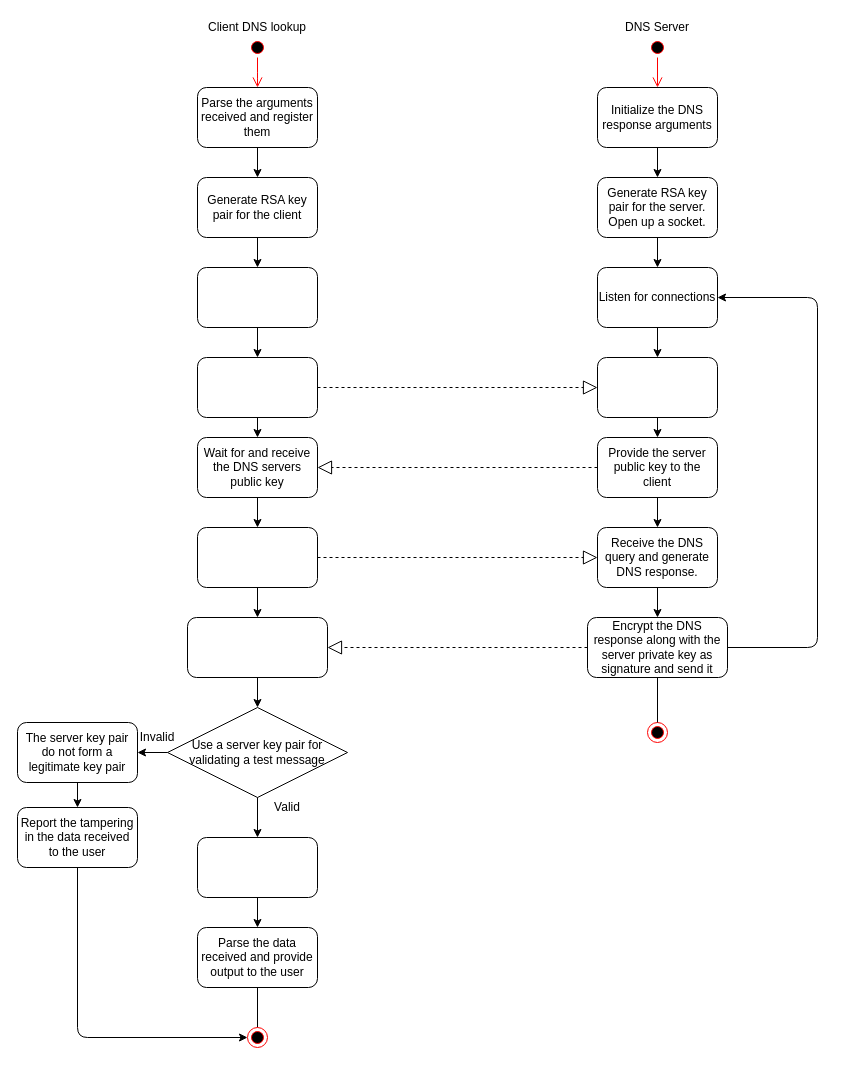
Image size: 843x1065. Some labels were removed from this diagram. Here are the shapes that lost their labels. From the top down, the centre of each, then its label:
the point at 257,297: Create a socket and connect to the DNS server
the point at 257,387: After connecting, provide the client public key to the server
the point at 657,387: After a connection is setup, receive the clients public key
the point at 257,557: Build the DNS request query and send it to the server
the point at 257,647: Wait for and receive the DNS response and the servers private key signature
the point at 257,867: Decrypt the DNS response using client private key
